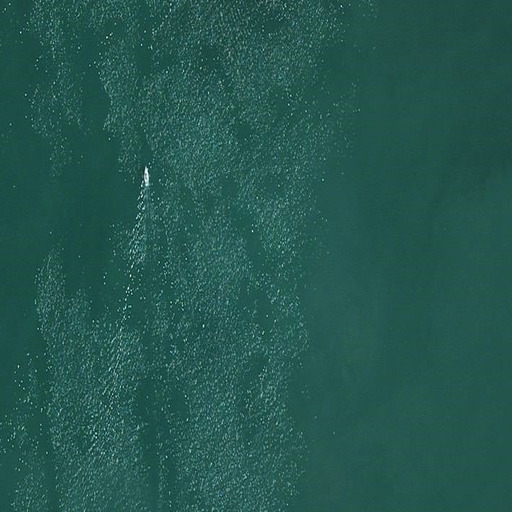ship: (141, 163, 152, 190)
